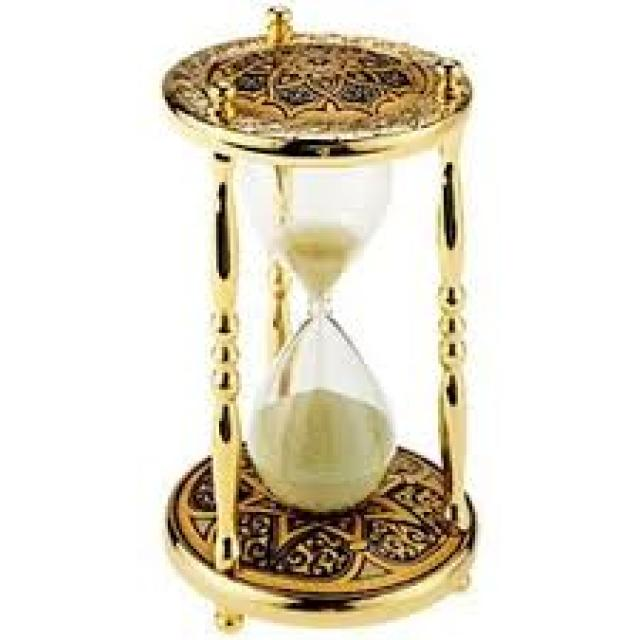clock: (136, 11, 521, 640)
